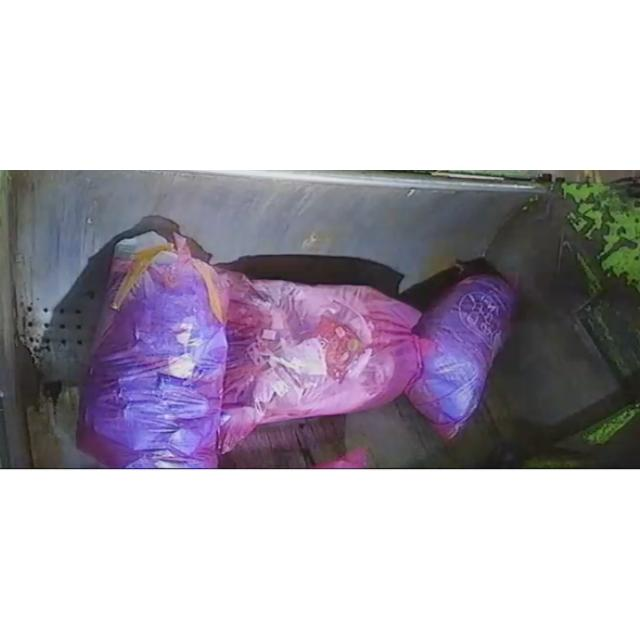other_trashbag: (219, 270, 421, 452), (78, 230, 228, 467), (408, 273, 515, 437)
